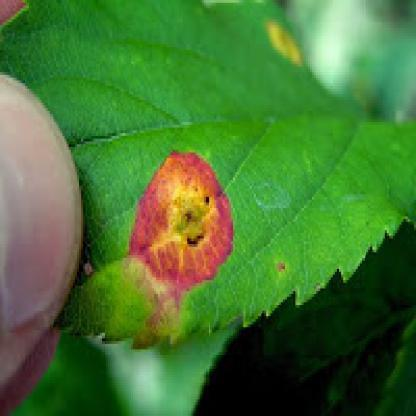Apple rust leaf: (71, 2, 414, 374)
